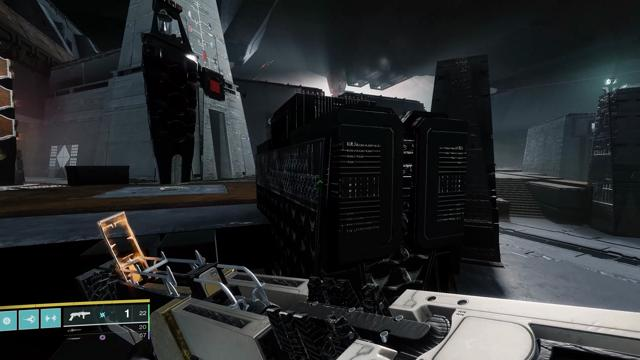stop: (207, 76, 223, 96)
